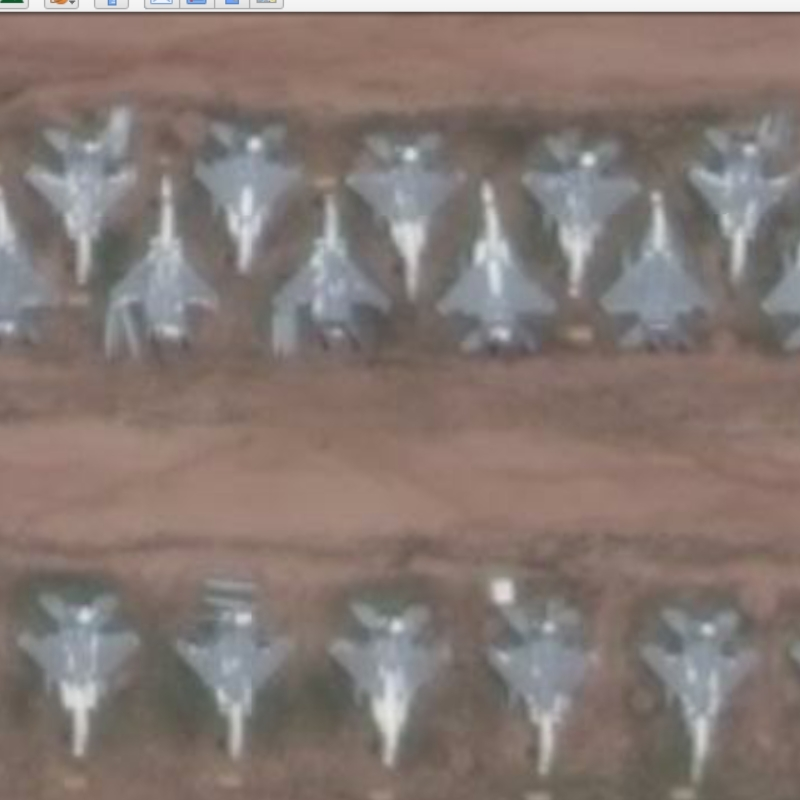A13: (631, 593, 770, 789), (163, 574, 302, 762), (320, 586, 459, 771), (476, 585, 606, 780), (337, 119, 471, 308), (10, 584, 151, 761), (432, 175, 563, 361), (514, 121, 643, 300), (109, 164, 225, 355), (21, 116, 142, 293), (269, 193, 403, 351), (685, 112, 800, 292), (191, 112, 309, 283), (599, 186, 718, 355)
